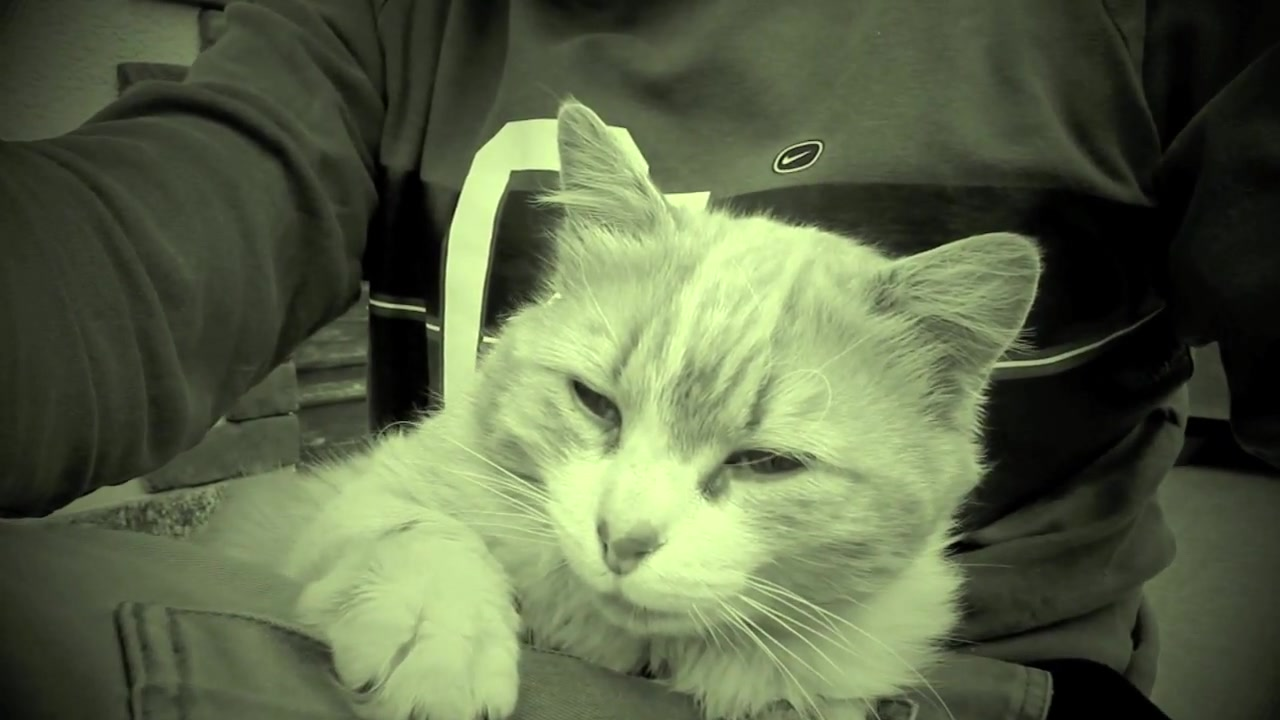cat: (186, 91, 1045, 720)
